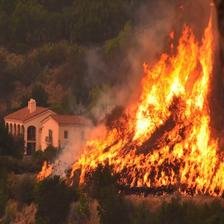fire: (56, 18, 220, 195)
